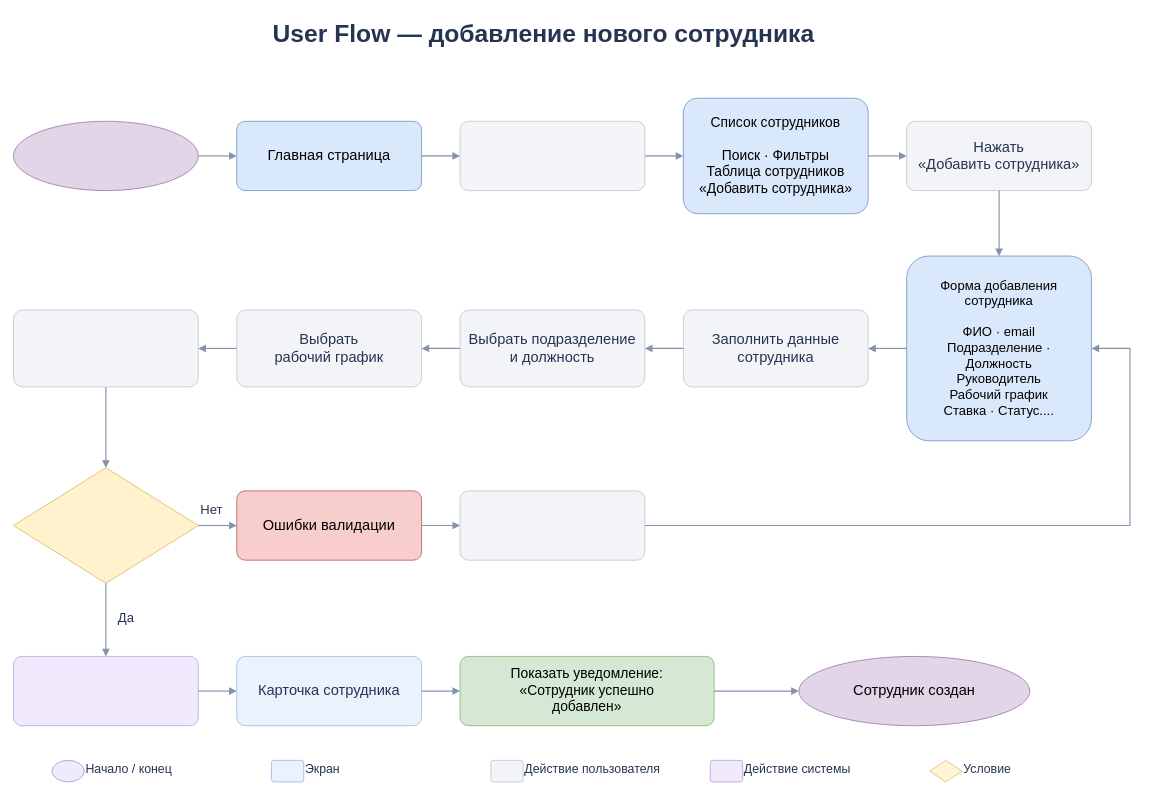
The diagram is 1157 pixels wide and 798 high, and some of its shapes have lost their labels. Here are the shapes that lost their labels. From the top down, the centre of each, then its label:
point (105, 156): Вход в систему
point (552, 156): Открыть раздел «Сотрудники»
point (105, 348): Нажать «Сохранить»
point (105, 525): Данные заполнены корректно?
point (552, 525): Исправить данные
point (105, 691): Сохранить сотрудника
